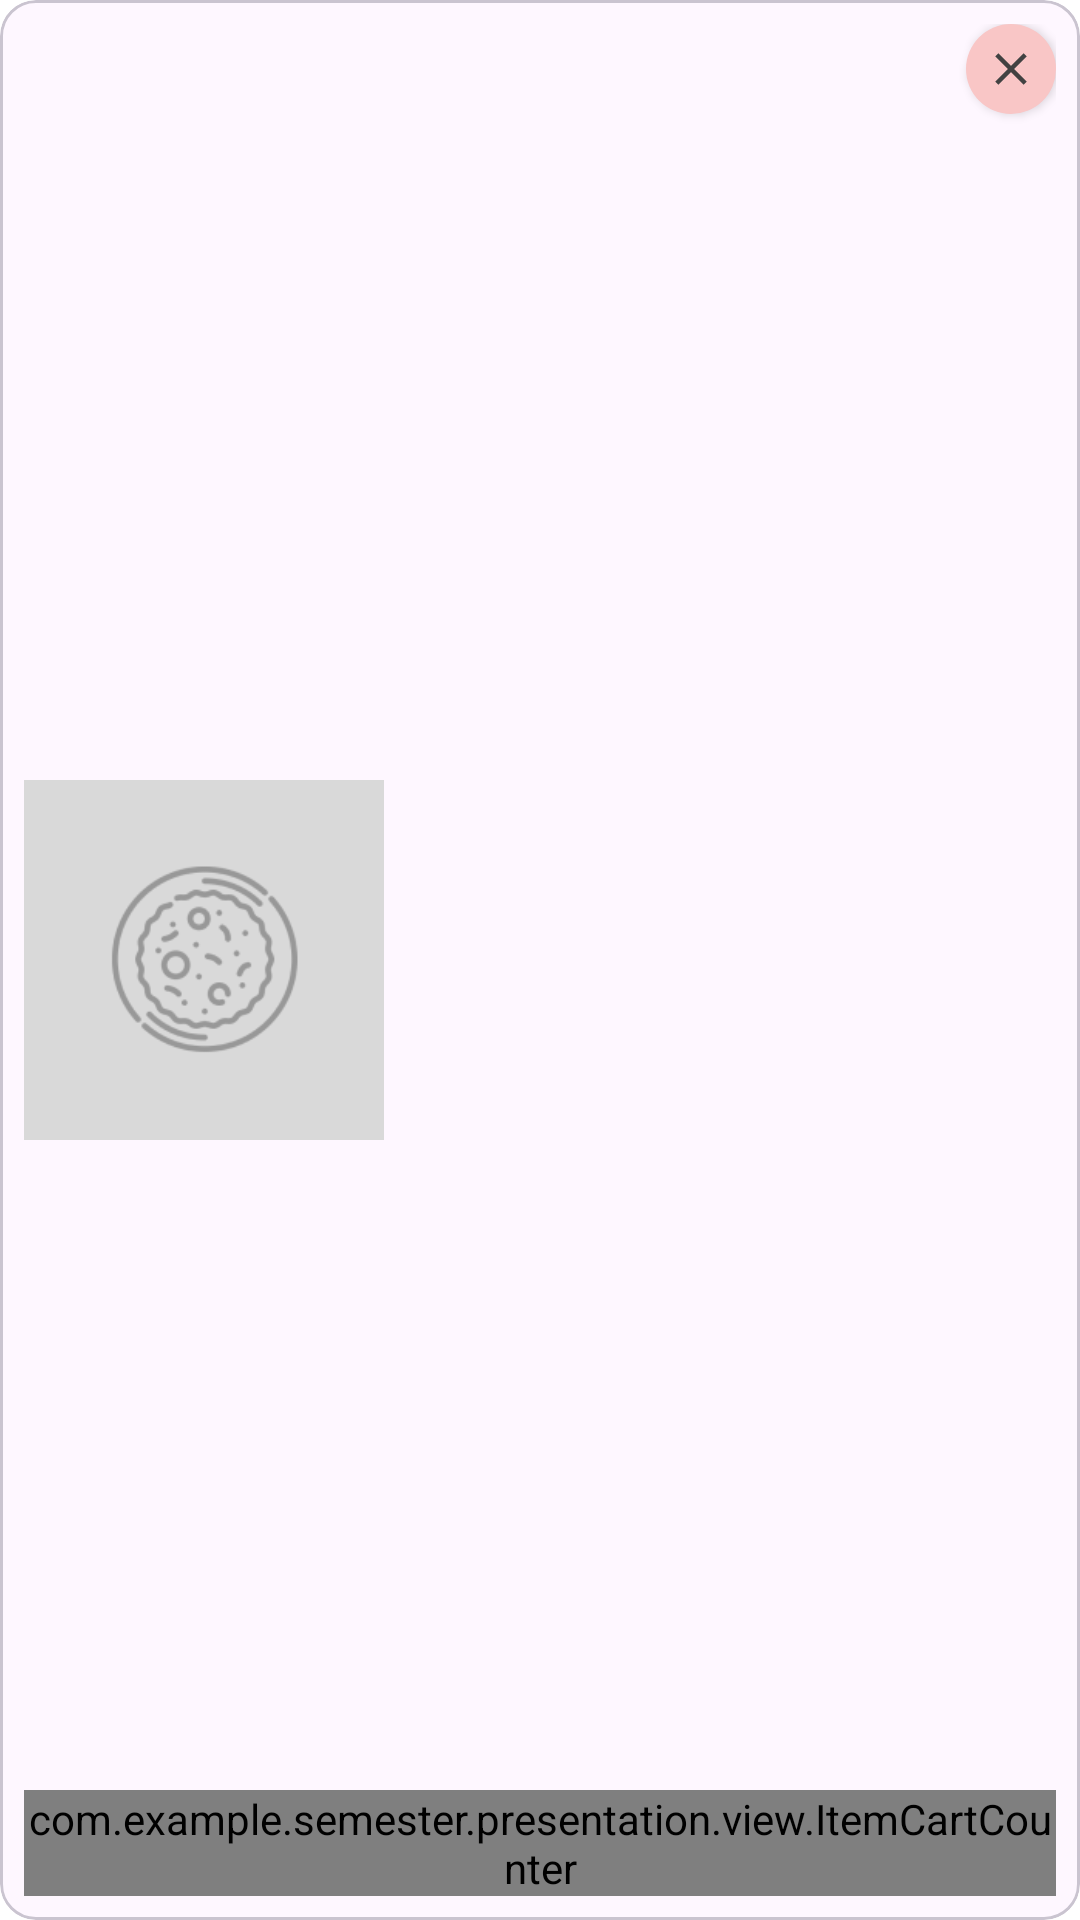

Screen size 1080 × 1920. Icon name, then its center in pixels as [x,y]:
dont exist dish photo: [204,960]
